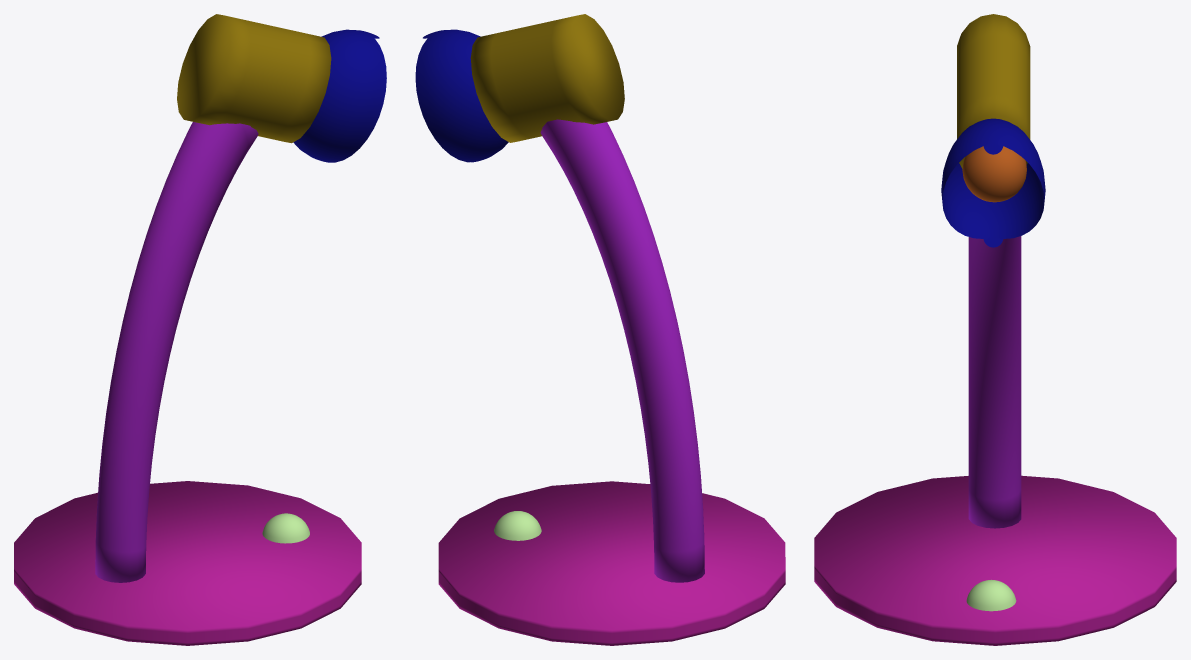
File: DesktopLamp.obj
The picture shows the model from 3 angles, left to right: view 1: azimuth 30°, elevation 25°; view 2: azimuth 150°, elevation 25°; view 3: azimuth 270°, elevation 25°; orthographic projection. The views are drawn at different scales.
Parts seen in each view (by area): view 1: DesktopLampBase, DesktopLampTube, DesktopLampCanyon, DesktopLampBulbHolder, DesktopLampButton; view 2: DesktopLampBase, DesktopLampTube, DesktopLampCanyon, DesktopLampBulbHolder, DesktopLampButton; view 3: DesktopLampBase, DesktopLampTube, DesktopLampBulbHolder, DesktopLampCanyon, BulbSphere, DesktopLampButton.
Part boxes in pixels (x1,y1,x2,y2): DesktopLampBase: [14, 481, 361, 645]; DesktopLampTube: [95, 122, 258, 582]; DesktopLampCanyon: [177, 14, 331, 143]; DesktopLampBulbHolder: [293, 29, 386, 162]; DesktopLampButton: [262, 513, 309, 543]; DesktopLampBase: [438, 481, 785, 645]; DesktopLampTube: [540, 119, 704, 582]; DesktopLampCanyon: [470, 14, 624, 142]; DesktopLampBulbHolder: [415, 29, 508, 162]; DesktopLampButton: [494, 511, 541, 540]; DesktopLampBase: [814, 475, 1176, 645]; DesktopLampTube: [968, 236, 1021, 528]; DesktopLampBulbHolder: [941, 118, 1045, 247]; DesktopLampCanyon: [957, 14, 1030, 168]; BulbSphere: [962, 146, 1026, 202]; DesktopLampButton: [966, 579, 1016, 611].
Size of the model in its own units: 2.19 by 3.35 by 1.93.
